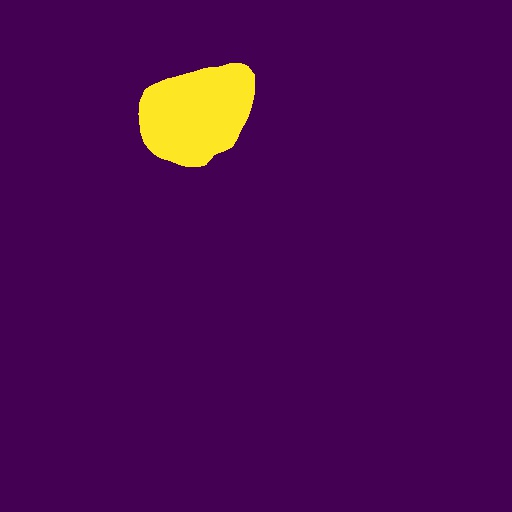Menigiomia_tumour: (138, 63, 255, 167)
